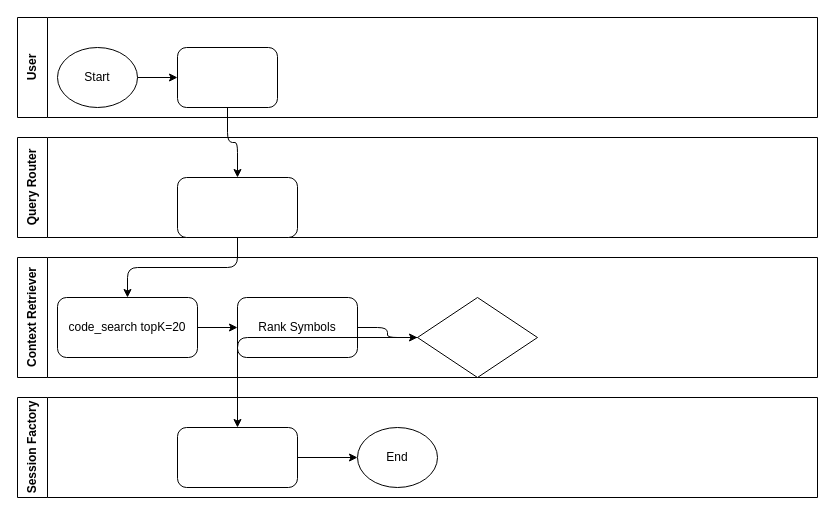
Some shapes in this 835 by 515 pixel diagram are drawn without their labels. Each missing label, with the centre of its shape:
"Classify Intent" goes at point 237,207.
"Create Session" goes at point 237,457.
"Submit Query" goes at point 227,77.
"Token Counter Check" goes at point 477,337.
